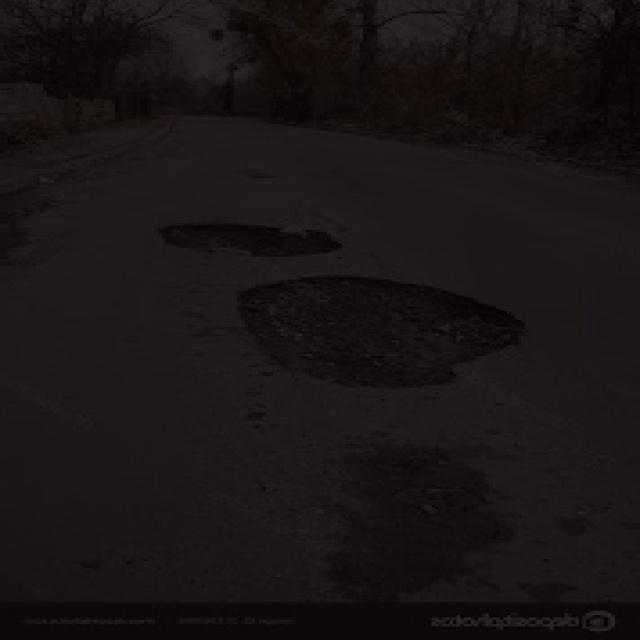Pothole: (202, 264, 546, 414), (146, 212, 356, 276)
